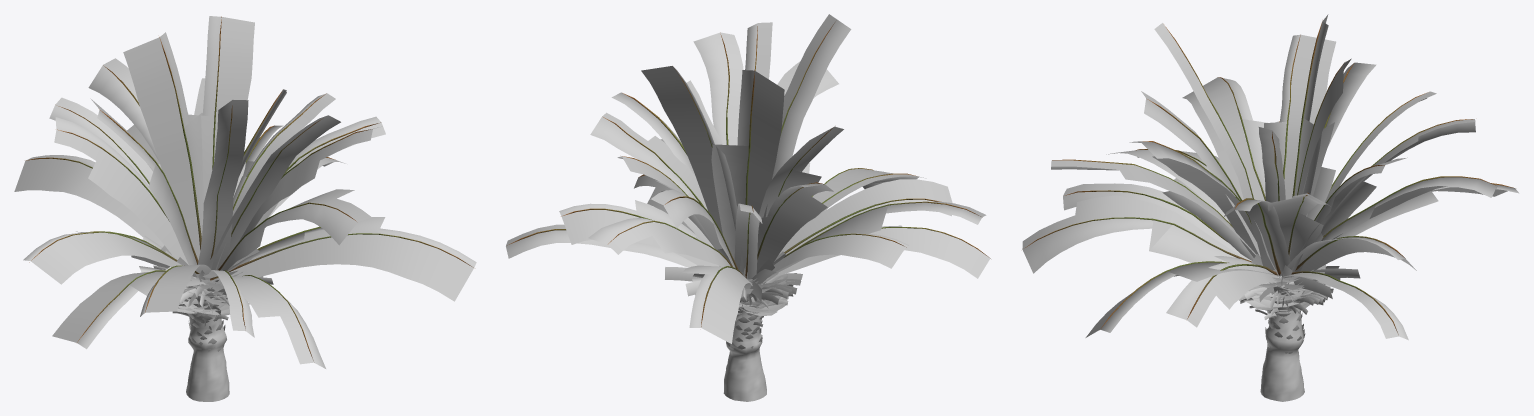
Rendered from Plant3_2_L0.fbx.
3 views of the same model, side by side, from view 1: azimuth 30°, elevation 25°; view 2: azimuth 150°, elevation 25°; view 3: azimuth 270°, elevation 25° (orthographic). The views are drawn at different scales.
Parts seen in each view (by area): view 1: polySurface28; view 2: polySurface28; view 3: polySurface28.
Part boxes in pixels (x1,y1,x2,y2): polySurface28: (14,16,476,401); polySurface28: (506,14,990,401); polySurface28: (1022,14,1519,401).
Bounding box in the file's own units: 629 × 524 × 661.
